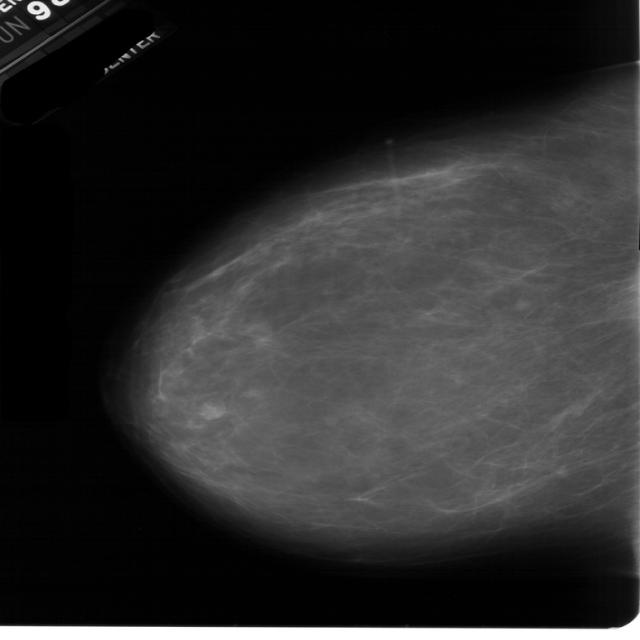tumour: (198, 397, 224, 419)
